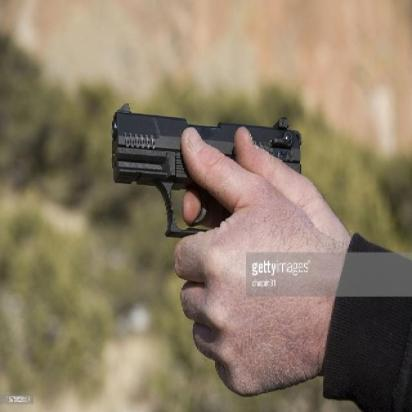Gun: (91, 95, 313, 236)
